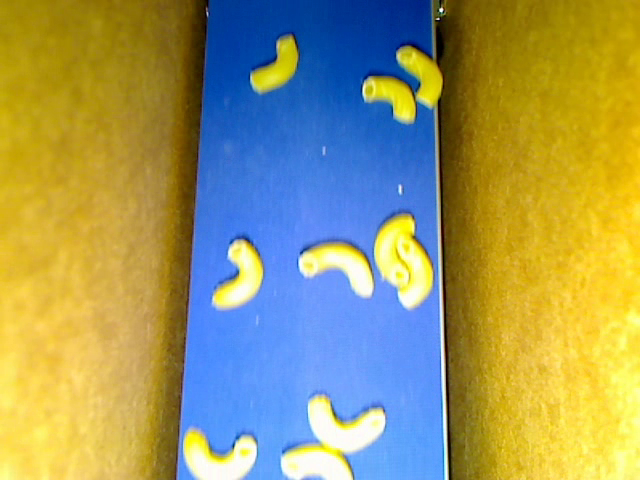elbow: (307, 393, 386, 453), (297, 240, 374, 300), (181, 426, 258, 479), (211, 238, 263, 309), (395, 44, 443, 109), (374, 212, 415, 287), (249, 34, 299, 93), (397, 234, 433, 311), (280, 443, 354, 479), (362, 76, 416, 123)
